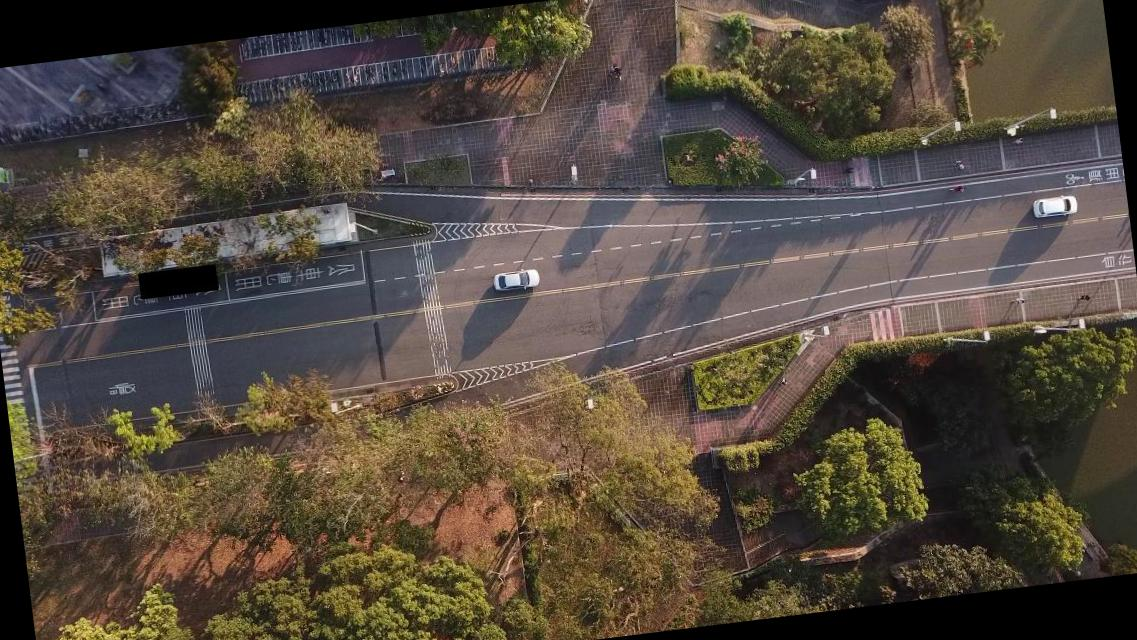vehicle: (492, 266, 540, 292), (1032, 193, 1078, 220)
